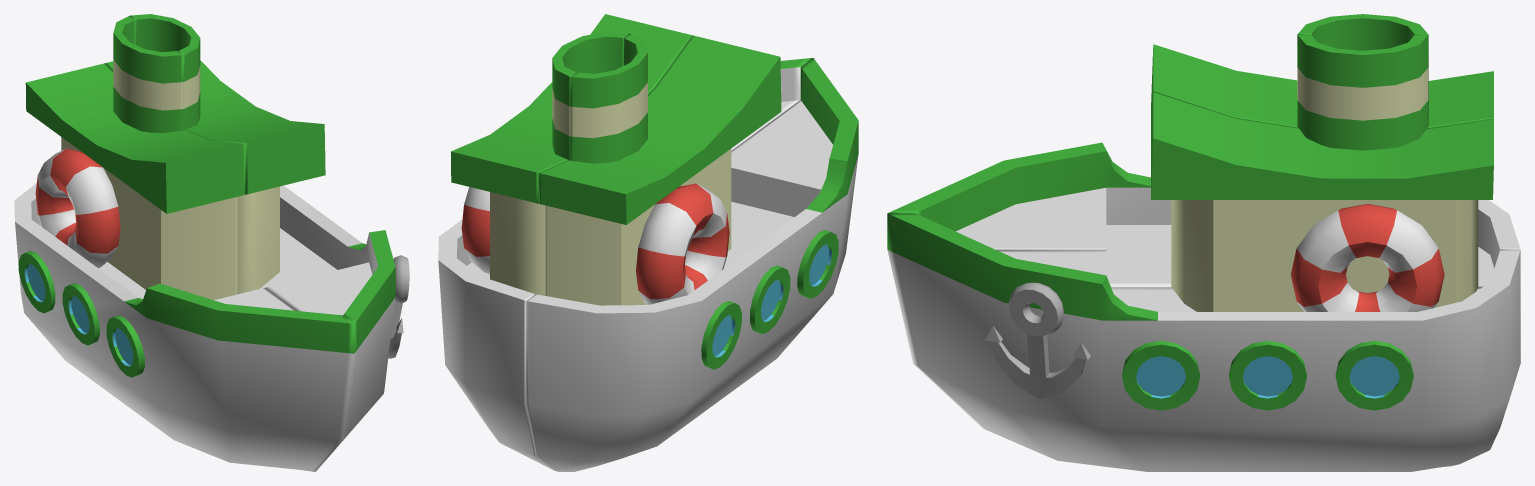
Rendered from SM_Ship_01b.fbx.
The picture shows the model from 3 angles, left to right: view 1: azimuth 30°, elevation 25°; view 2: azimuth 150°, elevation 25°; view 3: azimuth 270°, elevation 25°; orthographic projection. The views are drawn at different scales.
Visible parts, largest first — view 1: Ship_02, Ship_01; view 2: Ship_02, Ship_01; view 3: Ship_01, Ship_02.
Boxes of the visible parts, x1,y1,x2,y2 form: Ship_02: (14, 15, 354, 471); Ship_01: (105, 14, 409, 438); Ship_02: (526, 33, 858, 471); Ship_01: (438, 14, 812, 469); Ship_01: (887, 34, 1520, 471); Ship_02: (888, 14, 1520, 287).
Size of the model in its own units: 22.14 by 30.51 by 40.63.
